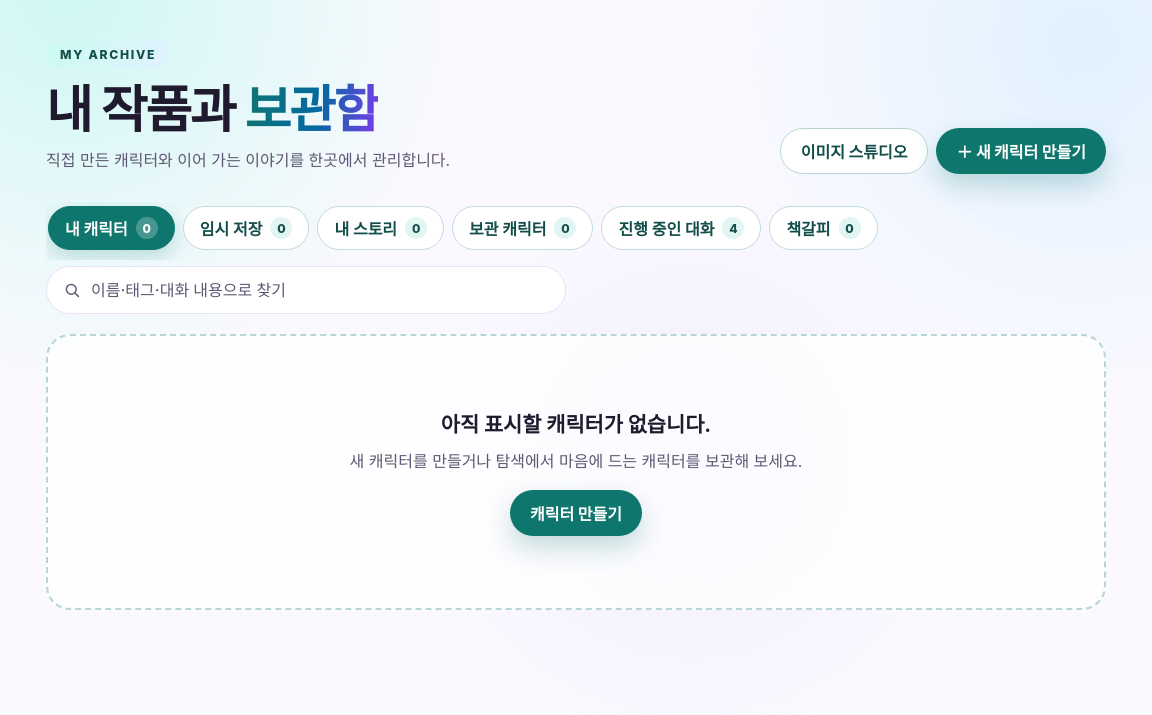
Test: 로컬 보관함 › 진행 중인 대화 탭에 스토리 대화도 스토리 주소와 등장인물 수로 보여 준다
Click the tab "진행 중인 대화 4". click: (681, 228)
box: top-left (602, 206), bottom-right (761, 250)
(page scrolled)
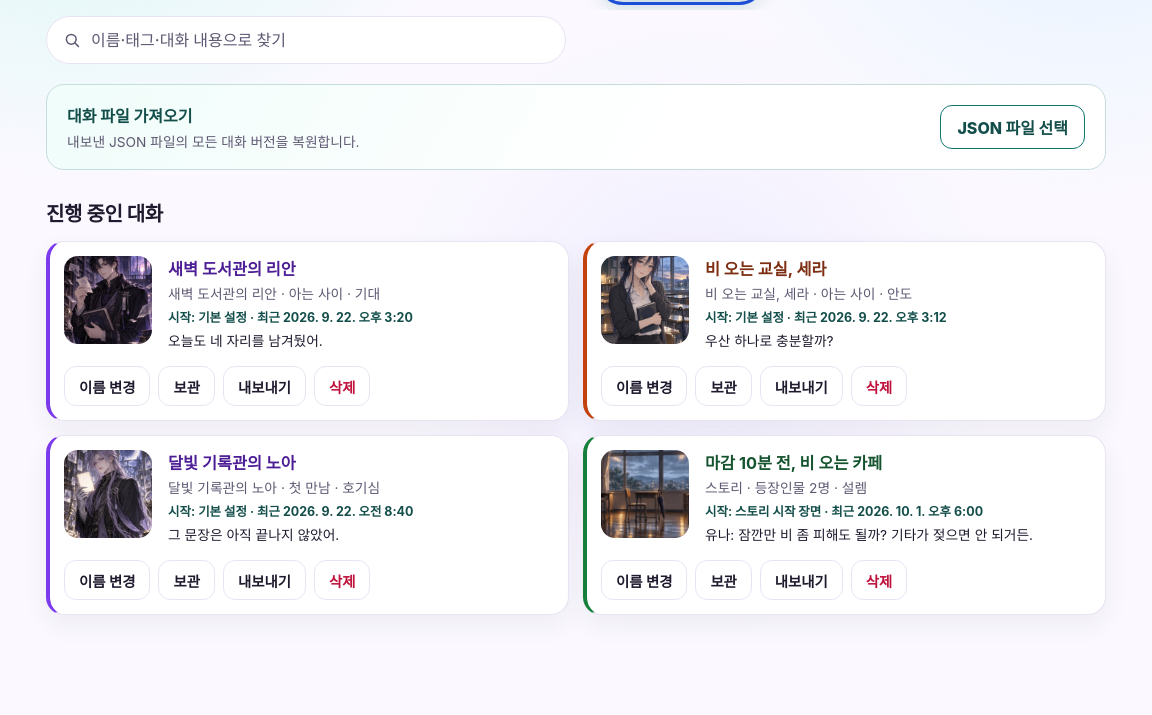
Expected: the link "마감 10분 전, 비 오는 카페" shows "스토리 · 등장인물 2명", top-left (601, 450), bottom-right (1033, 543)
Expected: the link "마감 10분 전, 비 오는 카페" shows "유나: 잠깐만 비 좀 피해도 될까?", top-left (601, 450), bottom-right (1033, 543)
